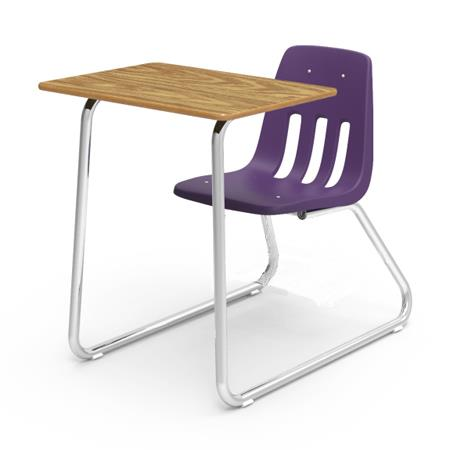desk_026.jpg: (23, 38, 437, 426)
